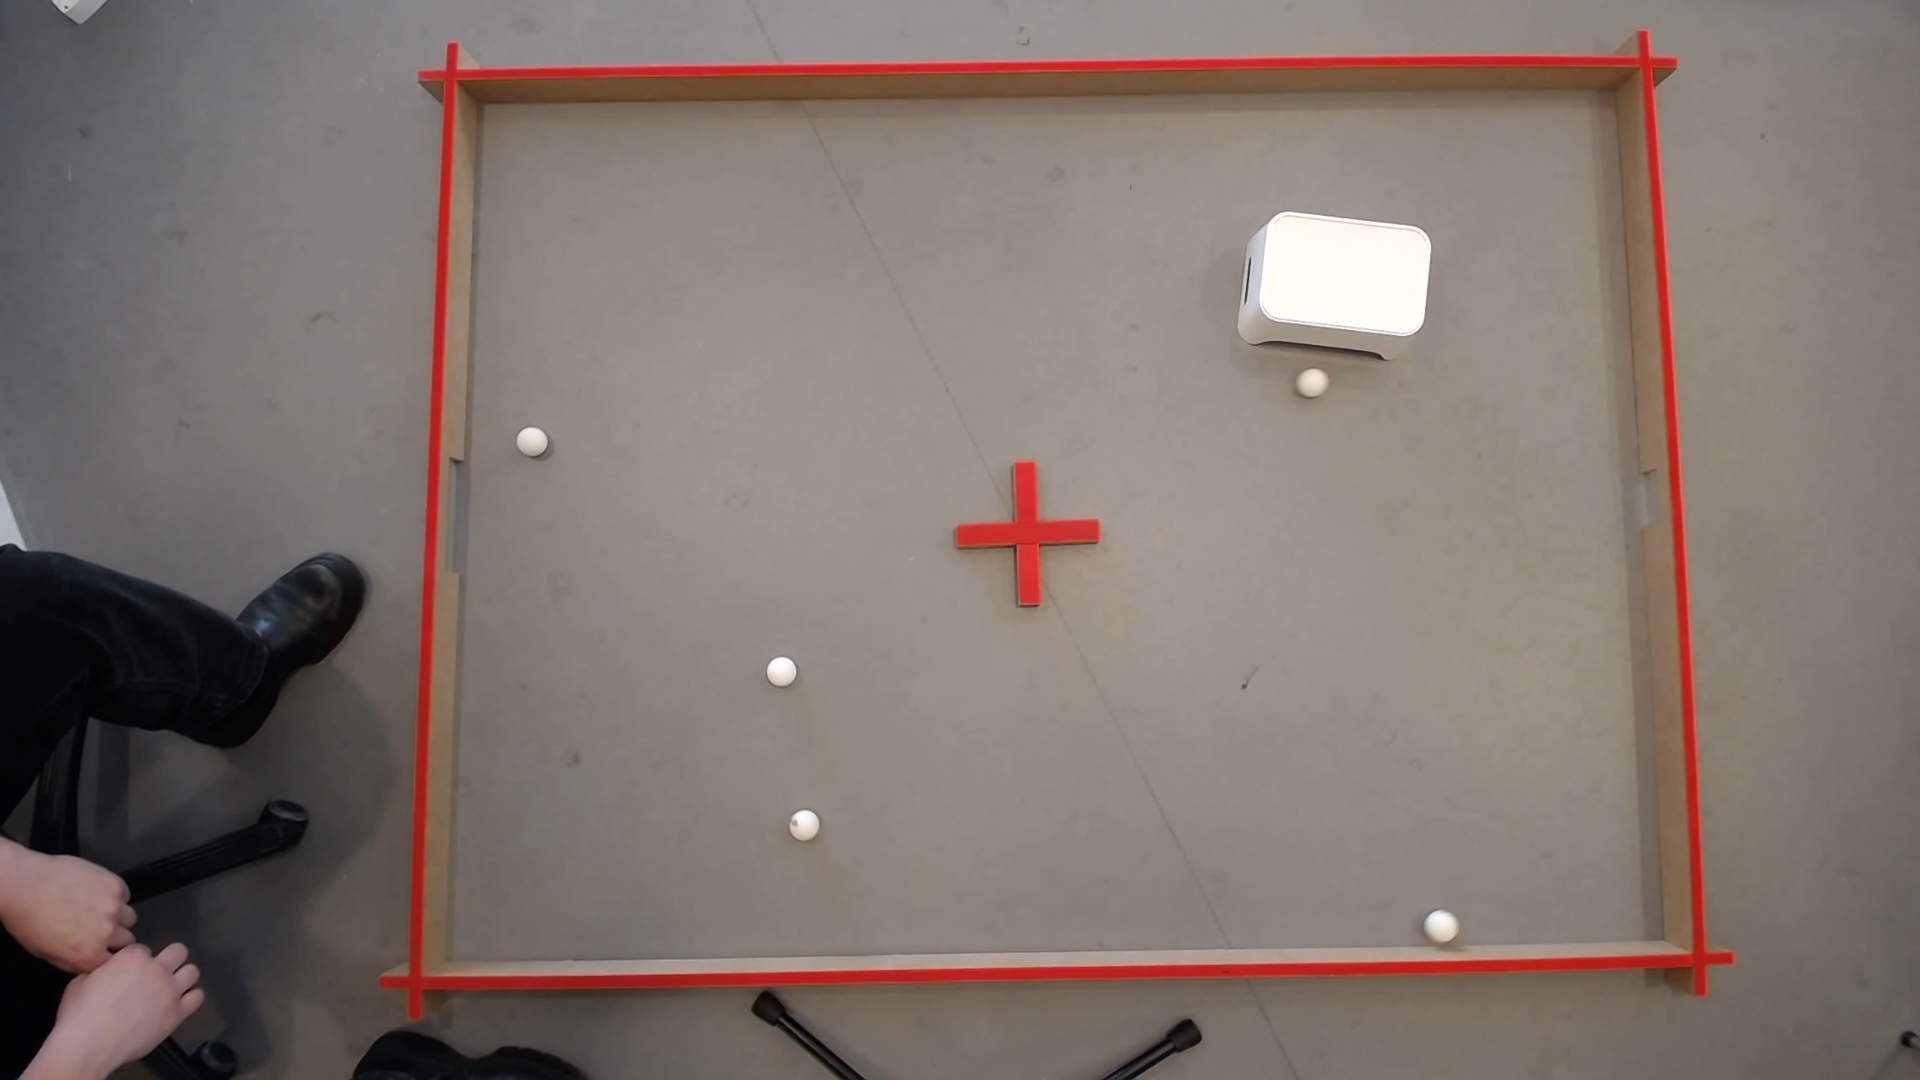balls: (1422, 905, 1460, 940), (762, 651, 799, 686), (514, 421, 547, 451), (793, 810, 816, 832)
car: (1299, 367, 1325, 392)
